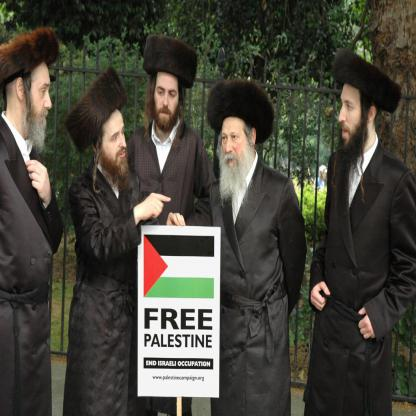face: (339, 80, 367, 154), (221, 117, 251, 179), (102, 114, 128, 179), (29, 71, 52, 144), (155, 71, 180, 129)
